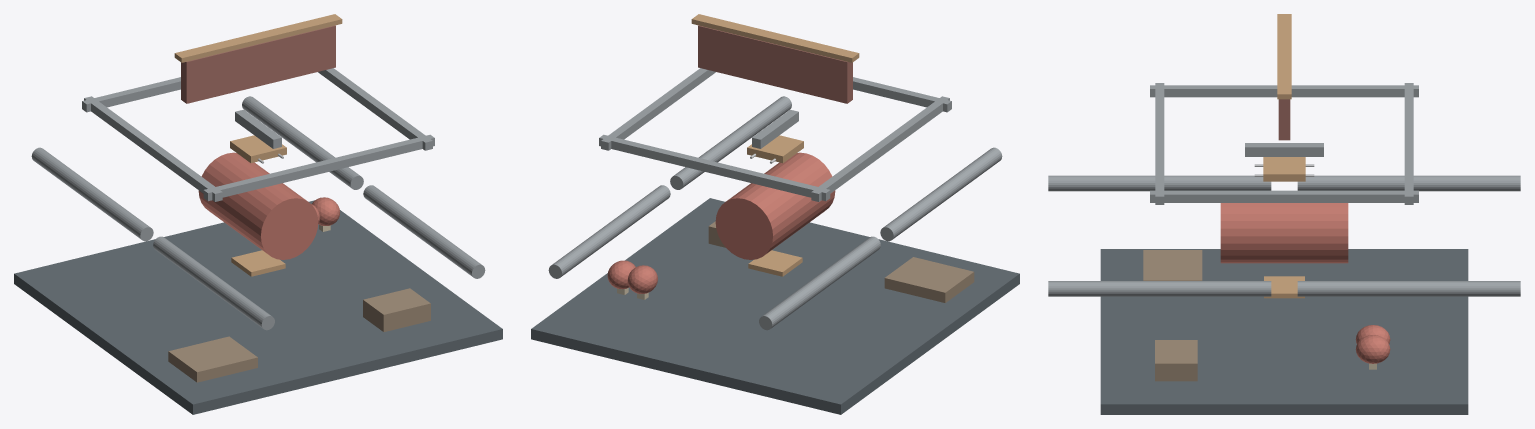
Rendered from bao-cat-3d.glb.
3 renders of one model, left to right at view 1: azimuth 30°, elevation 25°; view 2: azimuth 150°, elevation 25°; view 3: azimuth 270°, elevation 25°, orthographic. The views are drawn at different scales.
Visible parts, largest first — view 1: mat, world, bag, sign, crate1, crate2; view 2: mat, world, bag, sign, crate1; view 3: mat, world, bag, crate1, crate2, sign.
Part boxes in pixels (<box>): mat: <box>14,200,502,414</box>; world: <box>31,14,485,330</box>; bag: <box>198,152,318,259</box>; sign: <box>181,25,335,103</box>; crate1: <box>168,336,257,382</box>; crate2: <box>363,288,430,331</box>; mat: <box>531,198,1019,414</box>; world: <box>548,14,1002,330</box>; bag: <box>715,152,835,259</box>; sign: <box>698,25,852,103</box>; crate1: <box>884,257,974,302</box>; mat: <box>1100,249,1468,414</box>; world: <box>1048,14,1520,369</box>; bag: <box>1220,203,1348,263</box>; crate1: <box>1143,250,1202,280</box>; crate2: <box>1155,340,1197,381</box>; sign: <box>1278,99,1290,140</box>.
Bounding box in the file's own units: 5.6 × 4.76 × 7.2.
